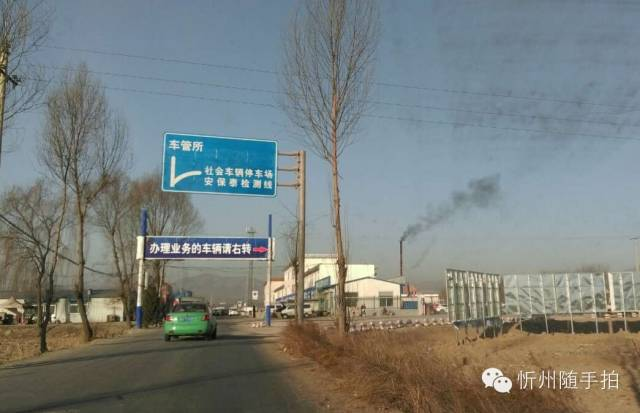dust: (394, 176, 509, 238)
